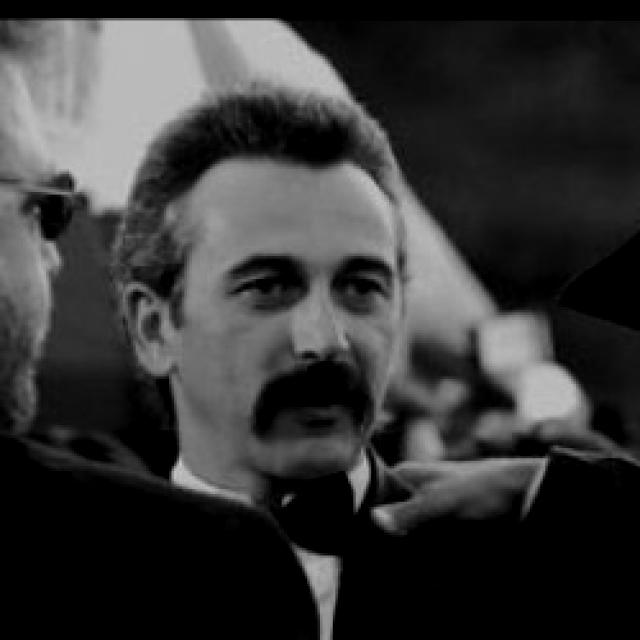real: (128, 87, 407, 484), (211, 253, 405, 316)
